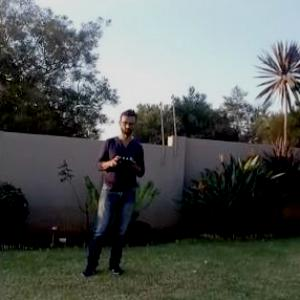follow: (73, 106, 146, 280)
